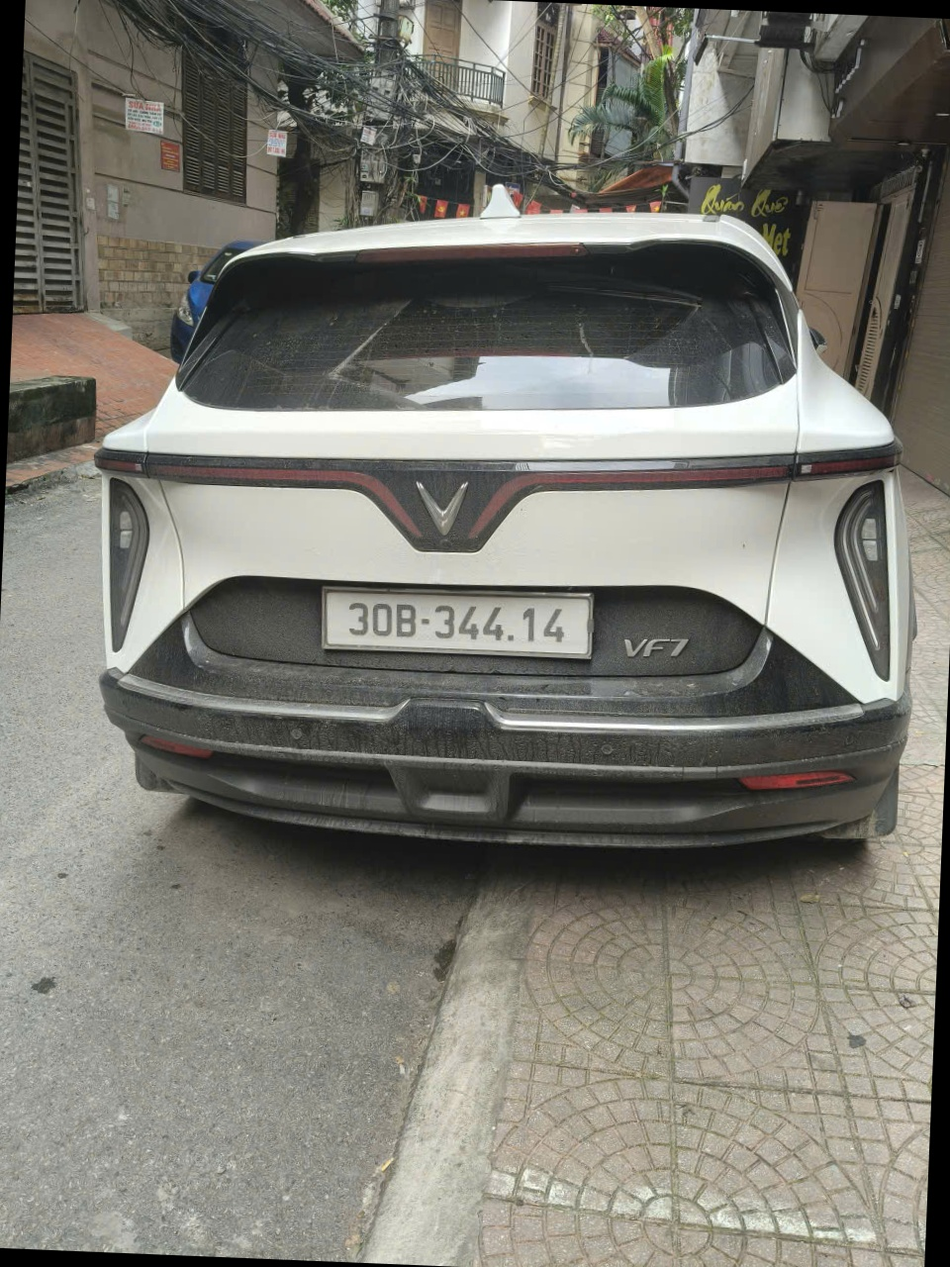plate: (795, 441, 896, 477)
